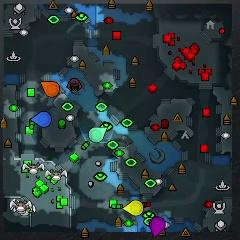p1: (30, 111, 52, 128)
p2: (88, 127, 107, 142)
p3: (149, 216, 166, 236)
p4: (123, 200, 144, 216)
p5: (40, 81, 60, 97)
